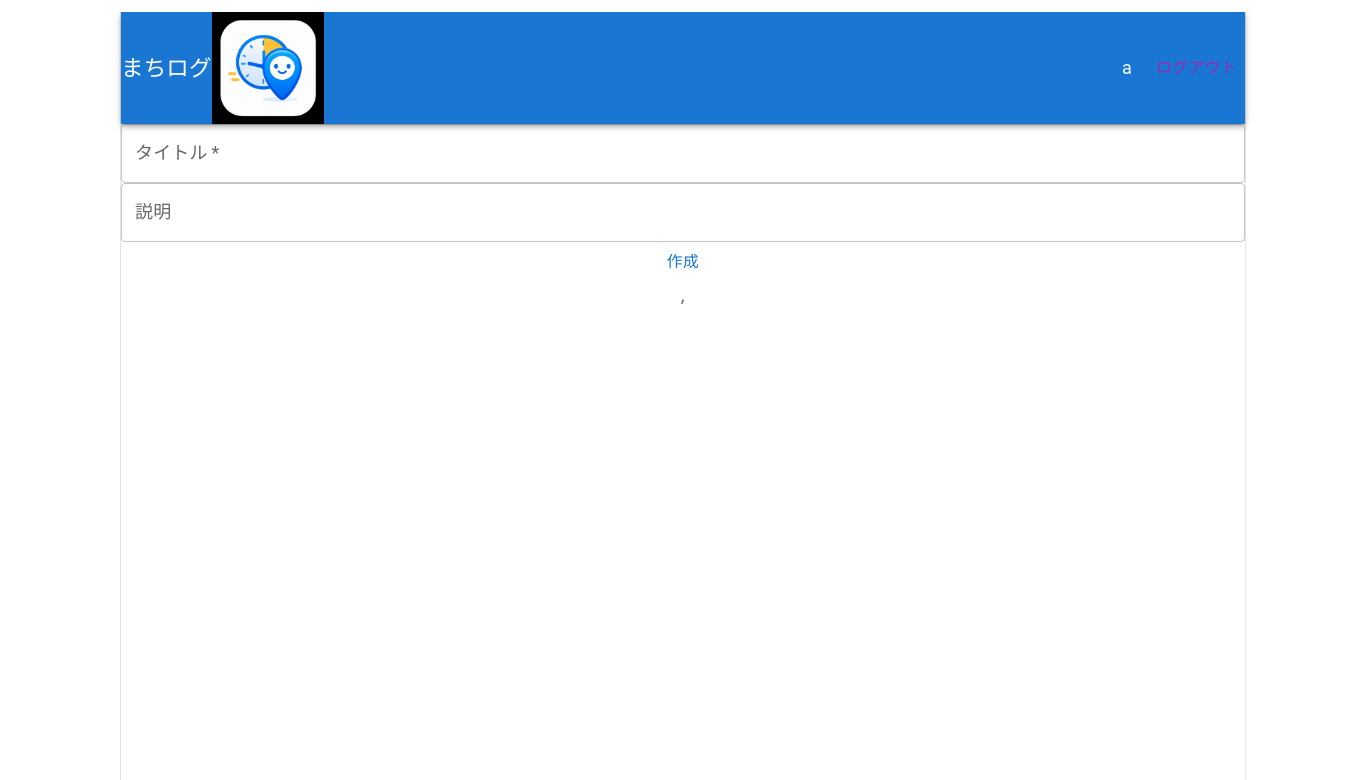
Test: まちログ › 作成が成功すると、一覧画面に遷移する
The image size is (1366, 780).
In the field labelled "タイトル": (683, 154) x1=121 y1=124 x2=1245 y2=183, type "あ"
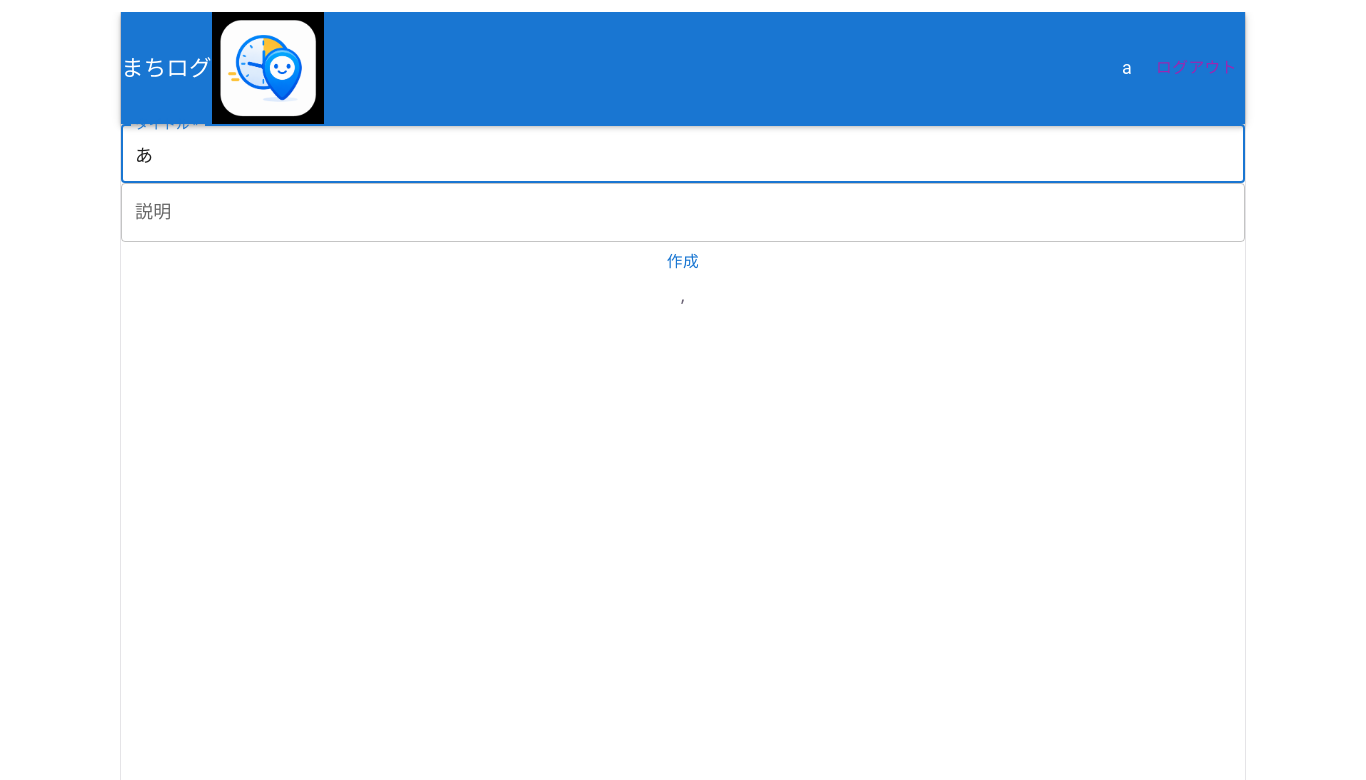
Click the button "作成": (683, 262) x1=121 y1=242 x2=1245 y2=282
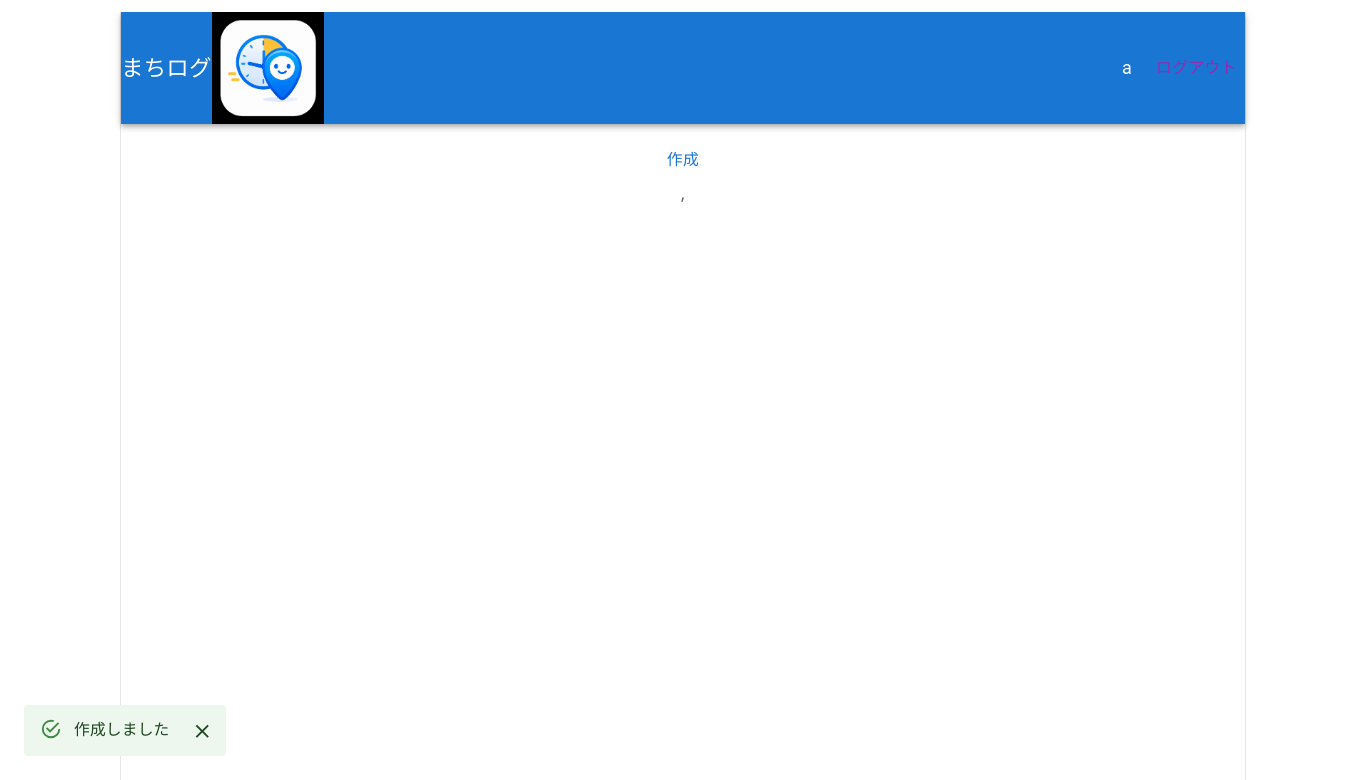
Check: the list is shown, box x1=121 y1=124 x2=1245 y2=140
